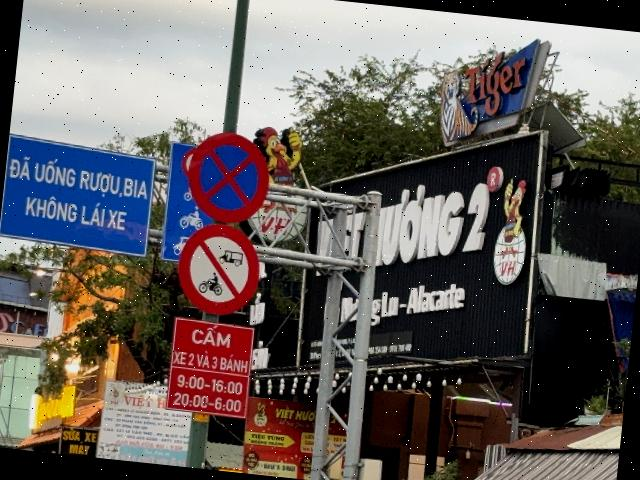cam-dung-va-do-xe: (184, 128, 276, 228)
cam-xe-2-banh-3-banh: (173, 220, 264, 319)
